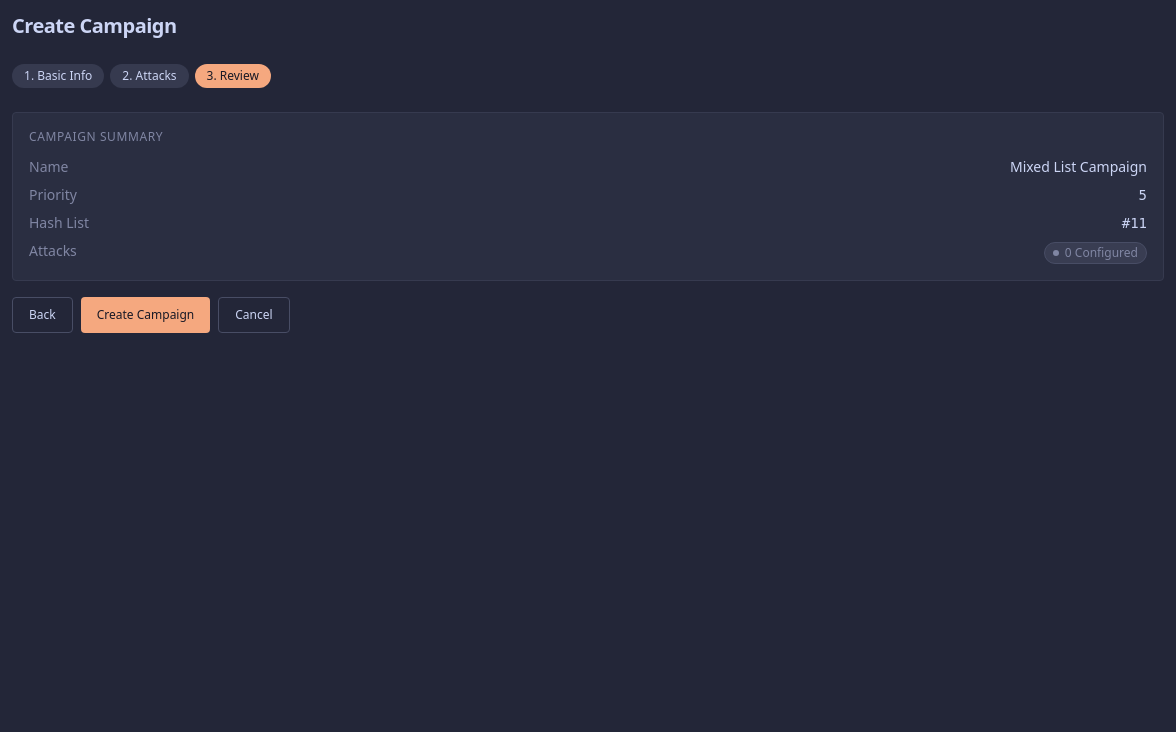
Scenario: CampaignCreatePage split-review flow (issue #202 SU6) › disables Confirm until the ambiguous group is assigned, then POSTs the resolved assignment and resets the wizard on success
Click the button "Create Campaign" at (146, 315), box [81, 297, 210, 333]
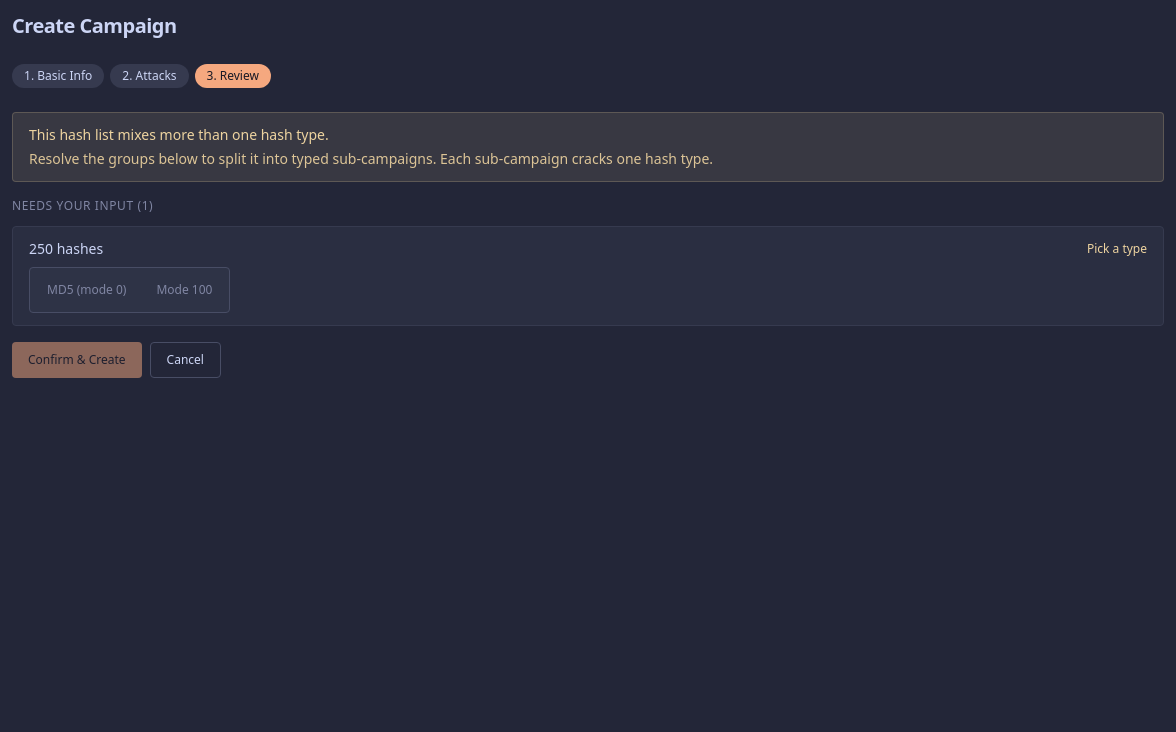
Check: the button "Confirm & Create" is disabled, box [12, 342, 142, 378]
Click the radio button labelled "MD5 (mode 0)" at (87, 290), box [34, 272, 140, 308]
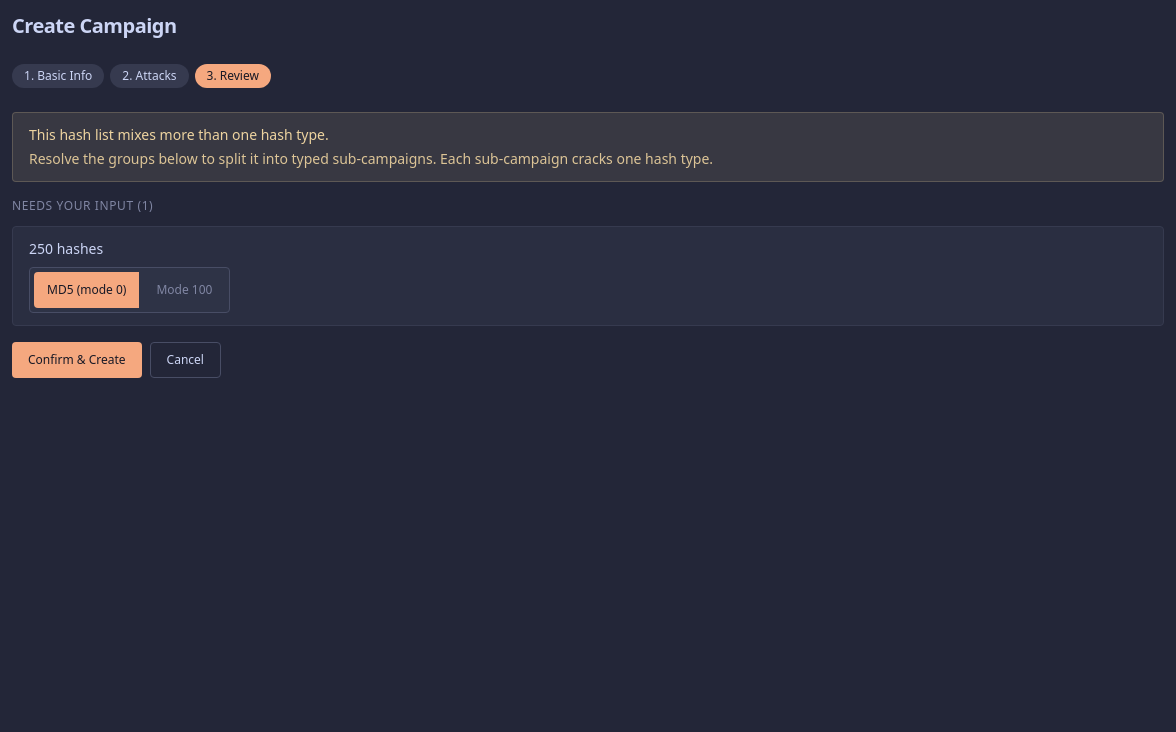
Check: the button "Confirm & Create" is enabled
Click the button "Confirm & Create" at (77, 360), box [12, 342, 142, 378]
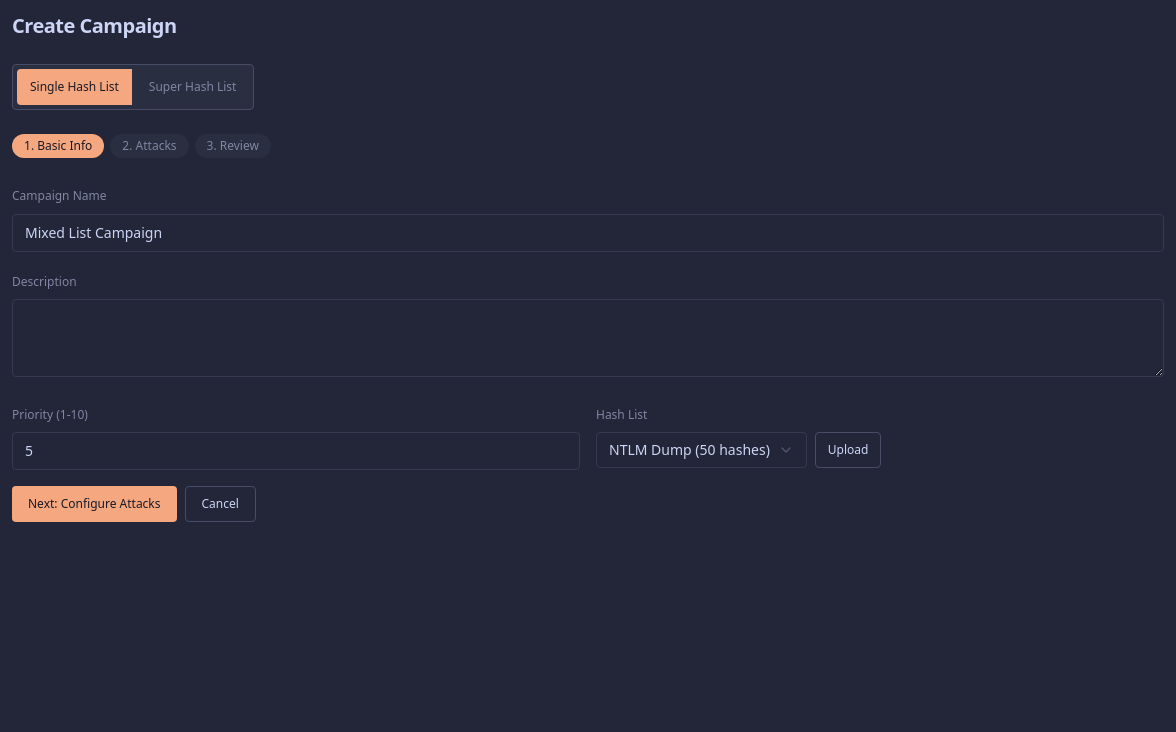
Check: the field labelled "Campaign Name" is shown, box [12, 214, 1164, 252]
